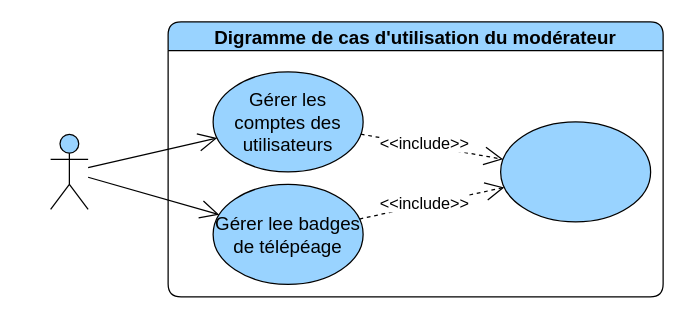
The diagram is 685 pixels wide and 319 high, and some of its shapes have lost their labels. The box of each missing label's shape, as (x1, y1, x2, y2) in pixels:
Modérateur: (49, 133, 88, 209)
S'authenthifier: (499, 121, 651, 222)
